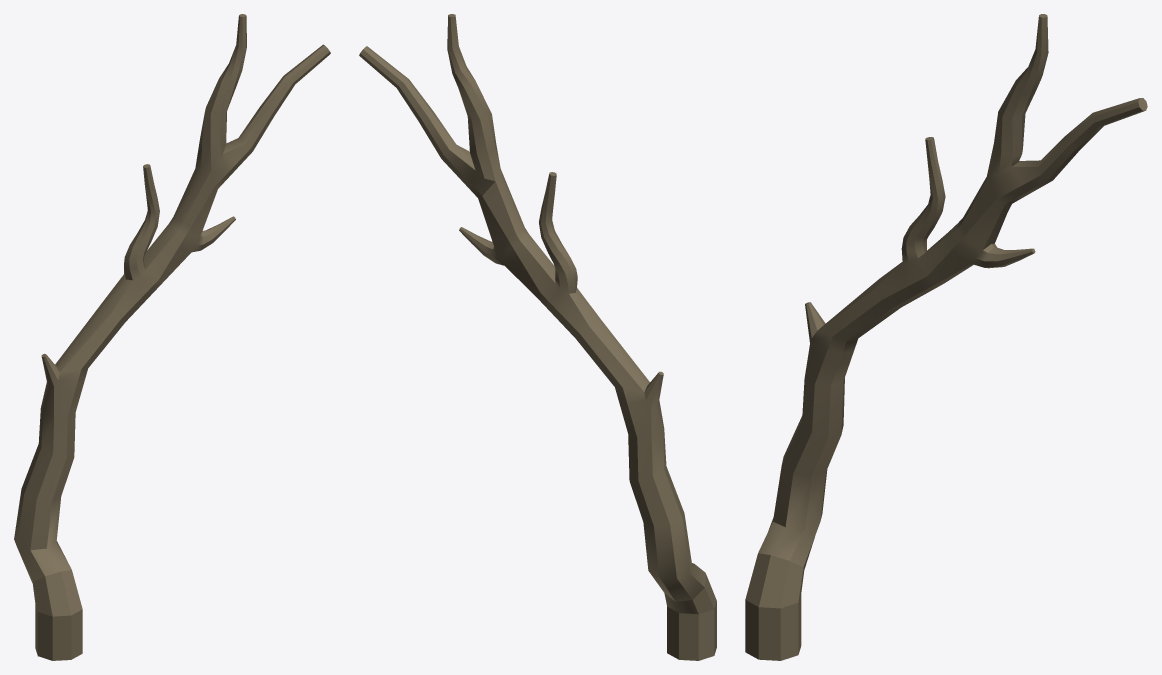
File: Kahoy.fbx
The picture shows the model from 3 angles, left to right: view 1: azimuth 30°, elevation 25°; view 2: azimuth 150°, elevation 25°; view 3: azimuth 330°, elevation 25°; orthographic projection. The views are drawn at different scales.
Parts seen in each view (by area): view 1: Kahoy1; view 2: Kahoy1; view 3: Kahoy1.
Boxes of the visible parts, x1,y1,x2,y2 form: Kahoy1: [14, 14, 330, 660]; Kahoy1: [359, 14, 716, 660]; Kahoy1: [745, 14, 1147, 660].
Size of the model in its own units: 5.08 by 8.81 by 1.27.
